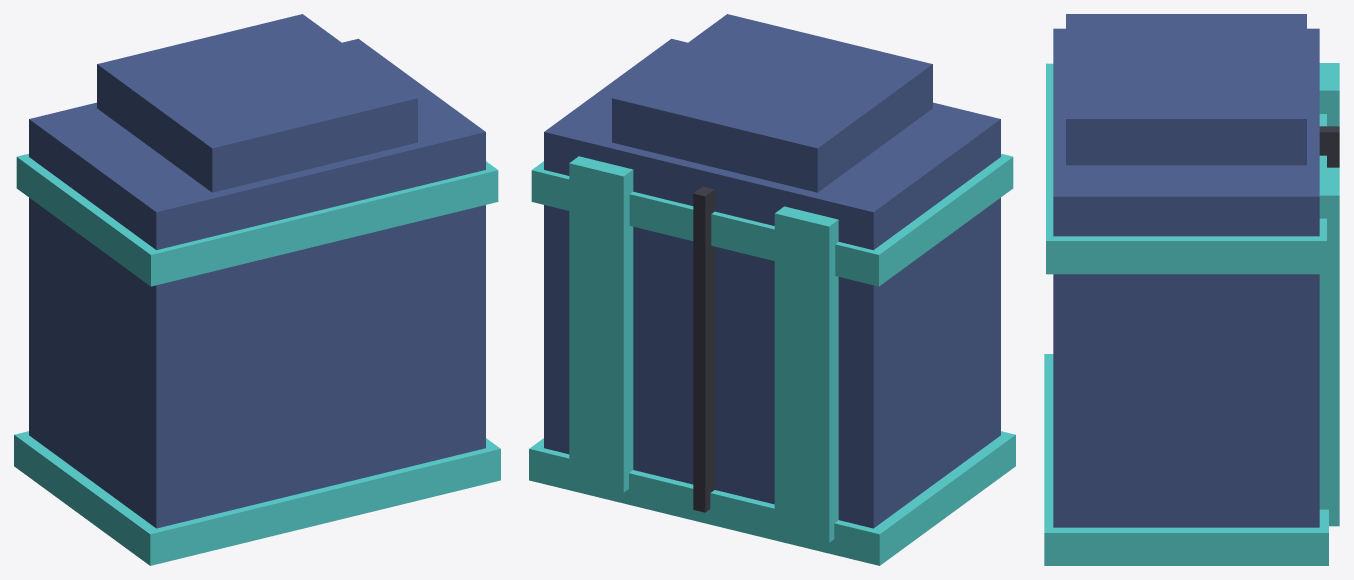
Rendered from mergulhador_tronco.glb.
3 views of the same model, side by side, from view 1: azimuth 30°, elevation 25°; view 2: azimuth 150°, elevation 25°; view 3: azimuth 270°, elevation 25° (orthographic). The views are drawn at different scales.
Visible parts, largest first — view 1: mergulhador_tronco; view 2: mergulhador_tronco; view 3: mergulhador_tronco.
Boxes of the visible parts, <box> form: mergulhador_tronco: <box>14,14,500,565</box>; mergulhador_tronco: <box>529,14,1015,565</box>; mergulhador_tronco: <box>1044,14,1339,565</box>.
Size of the model in its own units: 0.58 by 0.62 by 0.405.
